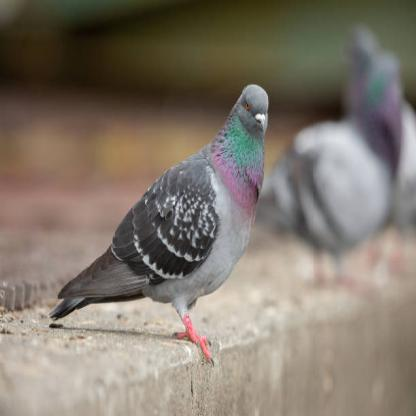Rock Pigeon: (50, 82, 273, 334)
